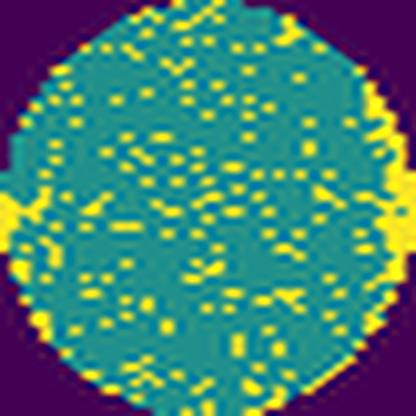Edge-Loc: (359, 76, 416, 338), (0, 183, 56, 249)
